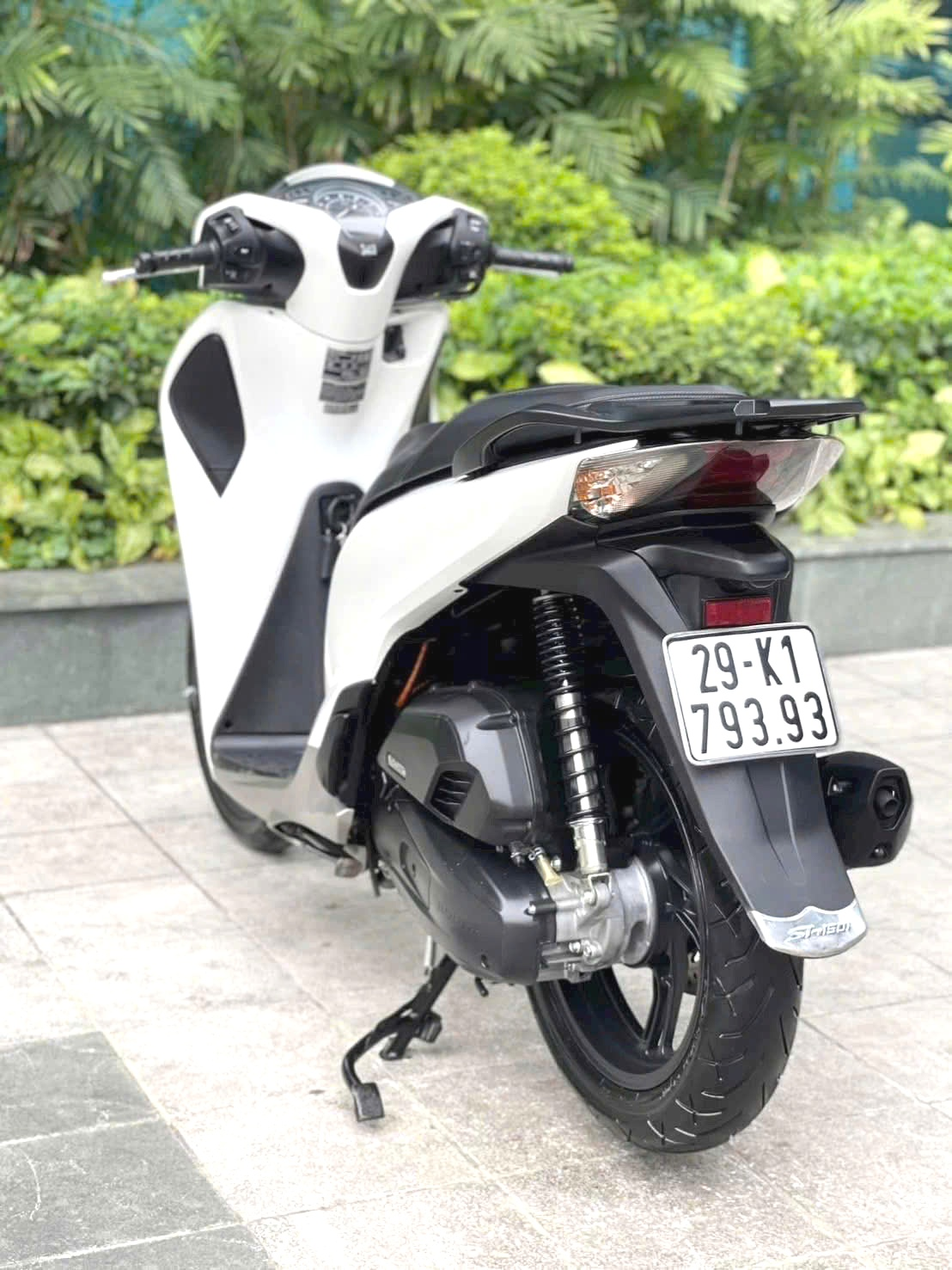Bien-so: (682, 643, 870, 813)
